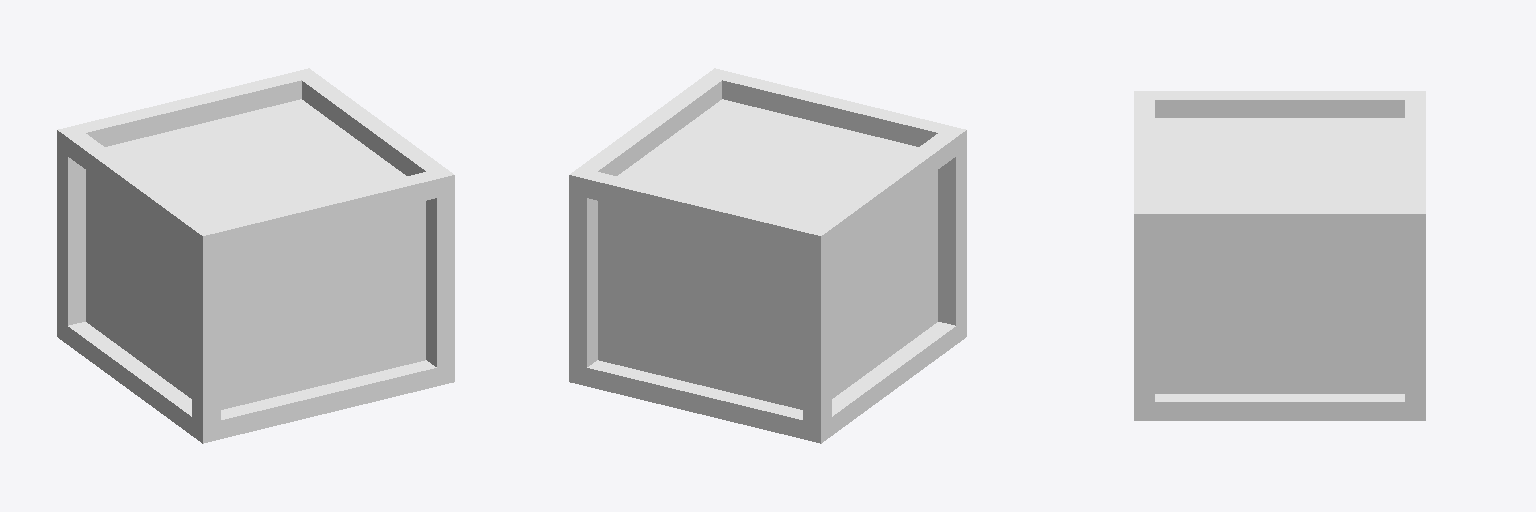
File: crate_box.obj
The picture shows the model from 3 angles: view 1: azimuth 30°, elevation 25°; view 2: azimuth 150°, elevation 25°; view 3: azimuth 270°, elevation 25°; orthographic projection.
Visible parts, largest first — view 1: crate_box; view 2: crate_box; view 3: crate_box.
Boxes of the visible parts, x1,y1,x2,y2 form: crate_box: [57, 68, 454, 443]; crate_box: [569, 68, 966, 443]; crate_box: [1134, 91, 1425, 420].
Bounding box in the file's own units: 14 × 11 × 14.